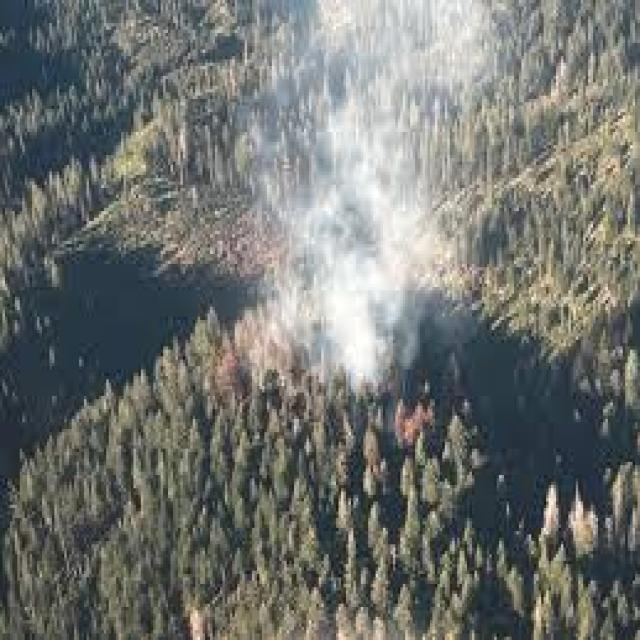Smoke: (269, 0, 469, 412)
